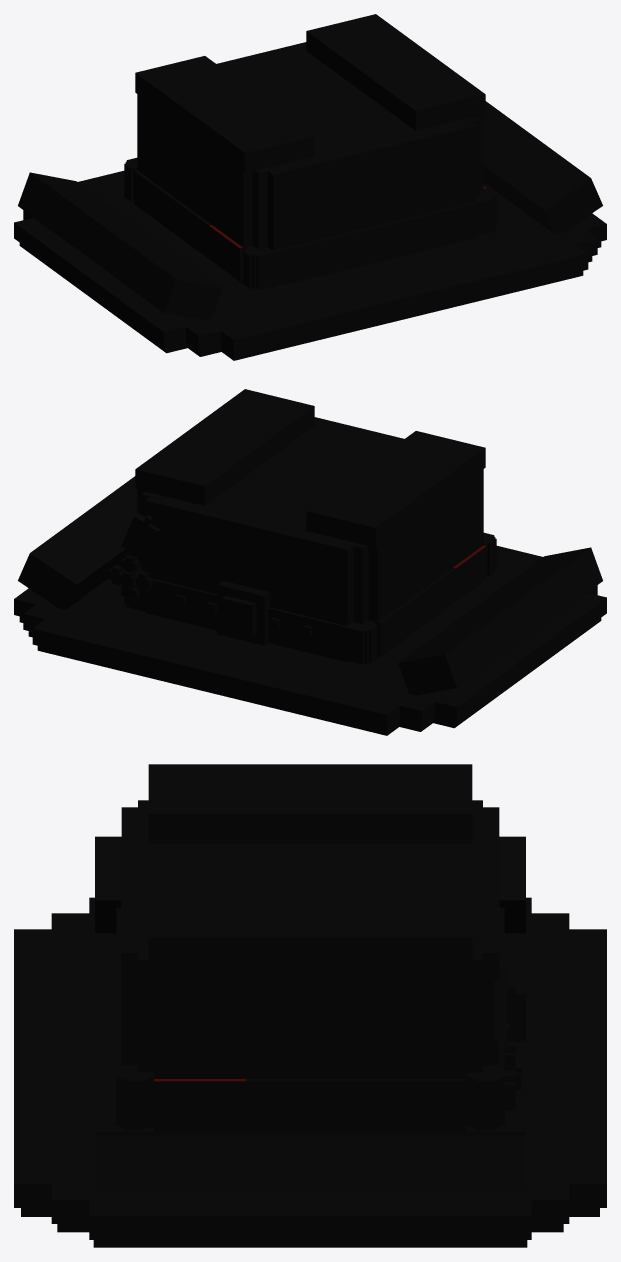
Rendered from hat_dusty_cowboy.obj.
3 renders of one model, top to bottom at view 1: azimuth 30°, elevation 25°; view 2: azimuth 150°, elevation 25°; view 3: azimuth 270°, elevation 25°, orthographic. The views are drawn at different scales.
Bounding box in the file's own units: 0.875 × 0.3075 × 0.6875.
